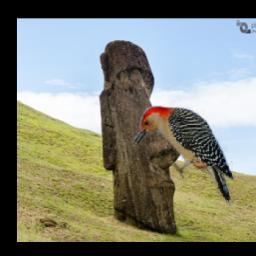Woodpecker: (131, 106, 235, 206)
